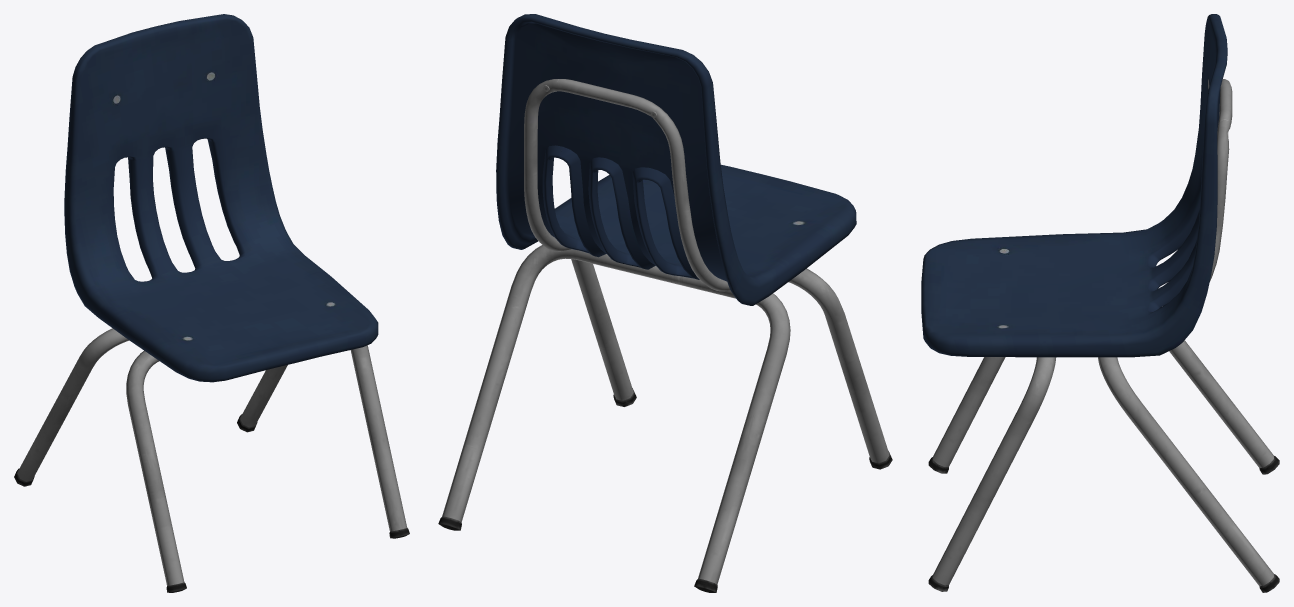
File: chair-transformed.glb
The picture shows the model from 3 angles, left to right: view 1: azimuth 30°, elevation 25°; view 2: azimuth 150°, elevation 25°; view 3: azimuth 270°, elevation 25°; orthographic projection. The views are drawn at different scales.
Visible parts, largest first — view 1: SchoolChair_01; view 2: SchoolChair_01; view 3: SchoolChair_01.
Boxes of the visible parts, box(x1,y1,x2,y2) form: SchoolChair_01: box(14, 14, 409, 592); SchoolChair_01: box(438, 14, 892, 592); SchoolChair_01: box(921, 14, 1279, 592).
Size of the model in its own units: 0.5659 by 1.01 by 0.6752.
1 material, 1 textured.
